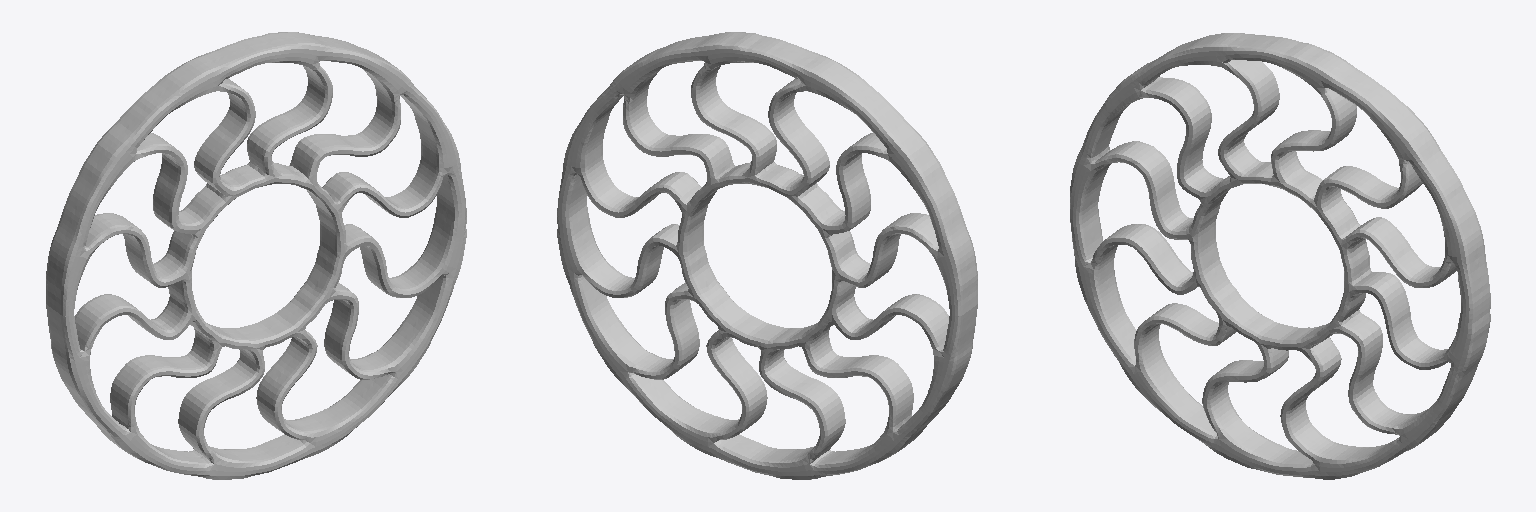
Rendered from Engrane 5.OBJ.
3 renders of one model, left to right at view 1: azimuth 30°, elevation 25°; view 2: azimuth 150°, elevation 25°; view 3: azimuth 330°, elevation 25°, orthographic.
Parts seen in each view (by area): view 1: Group18998; view 2: Group18998; view 3: Group18998.
Boxes of the visible parts, box(x1,y1,x2,y2) form: Group18998: box(46, 32, 466, 479); Group18998: box(557, 32, 977, 479); Group18998: box(1070, 33, 1490, 479).
Bounding box in the file's own units: 1.77 × 1.77 × 0.1536.